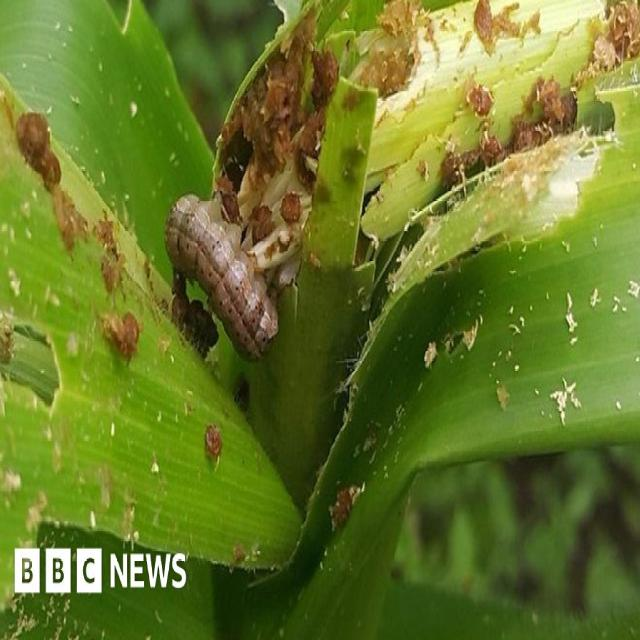pest-armyworm: (162, 188, 284, 369)
